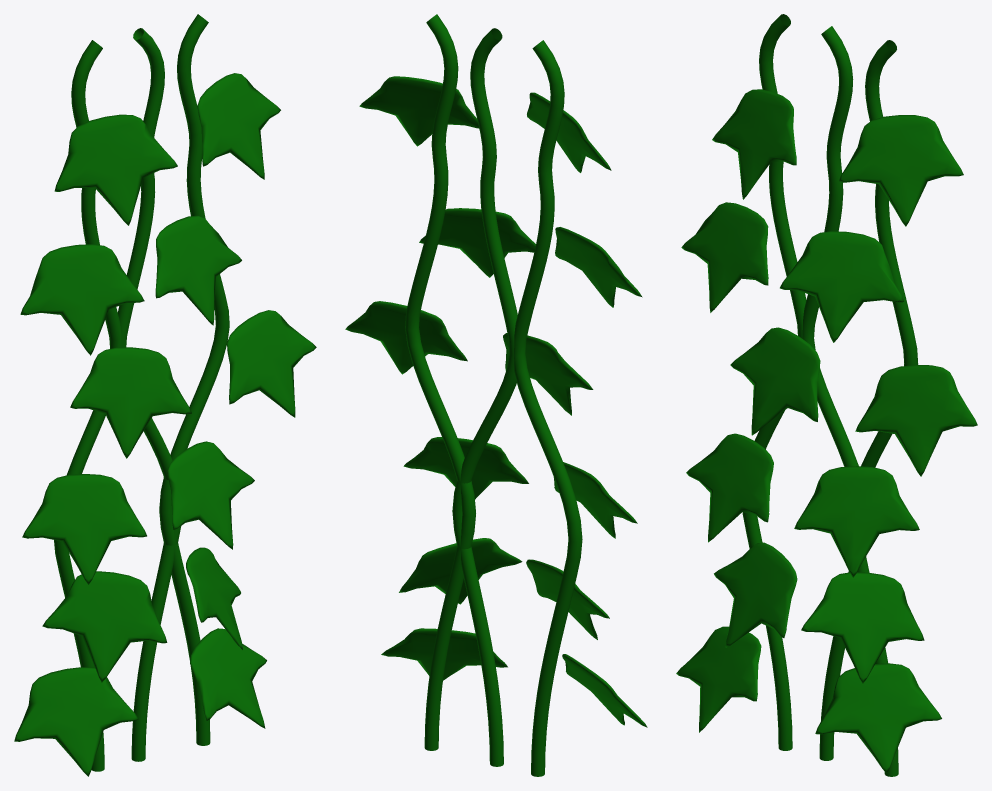
The model's file is vineobstacle.fbx.
The picture shows the model from 3 angles, left to right: view 1: azimuth 30°, elevation 25°; view 2: azimuth 150°, elevation 25°; view 3: azimuth 330°, elevation 25°; orthographic projection.
Parts seen in each view (by area): view 1: BezierCurve; view 2: BezierCurve; view 3: BezierCurve.
Part boxes in pixels (x1=…): BezierCurve: x1=14, y1=14, x2=316, y2=776; BezierCurve: x1=345, y1=14, x2=647, y2=776; BezierCurve: x1=676, y1=14, x2=977, y2=776.
Bounding box in the file's own units: 348 × 805 × 95.07.
